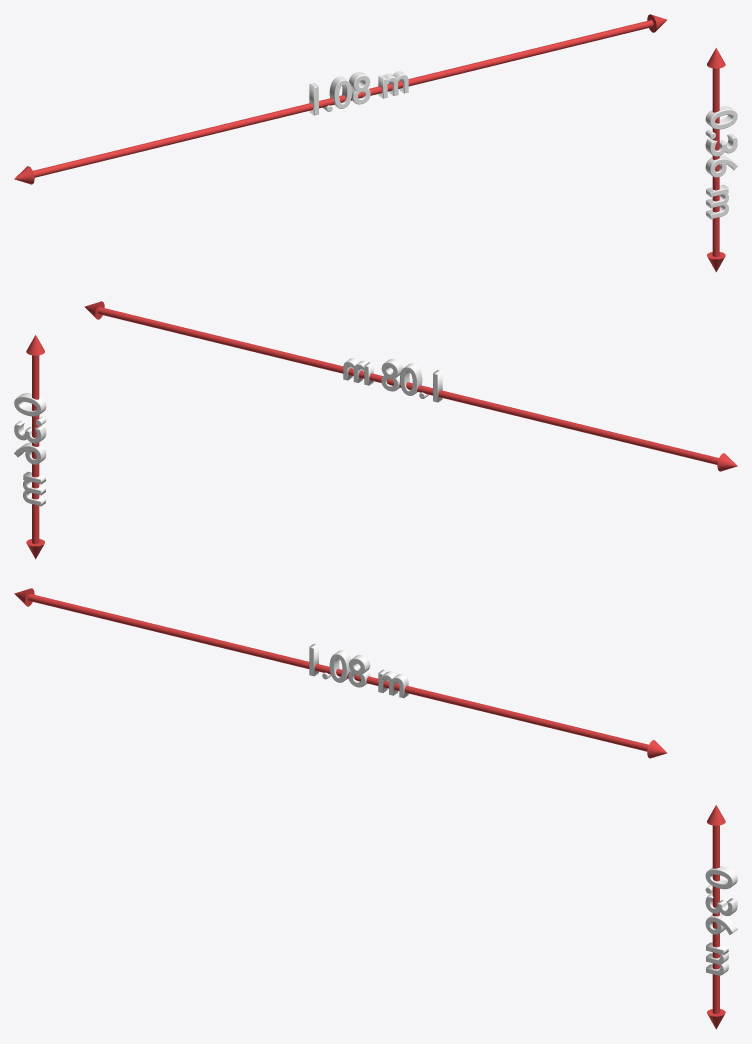
The model's file is dimentionFDDM1.gltf.
3 views of the same model, one above another, from view 1: azimuth 30°, elevation 25°; view 2: azimuth 150°, elevation 25°; view 3: azimuth 330°, elevation 25° (orthographic).
Visible parts, largest first — view 1: Text.002; view 2: Text.002; view 3: Text.002.
Boxes of the visible parts, left/top/right/bottom form: Text.002: left=14, top=14, right=737, bottom=272; Text.002: left=14, top=301, right=737, bottom=559; Text.002: left=14, top=588, right=737, bottom=1029.
Size of the model in its own units: 19.37 by 7.33 by 0.4388.
